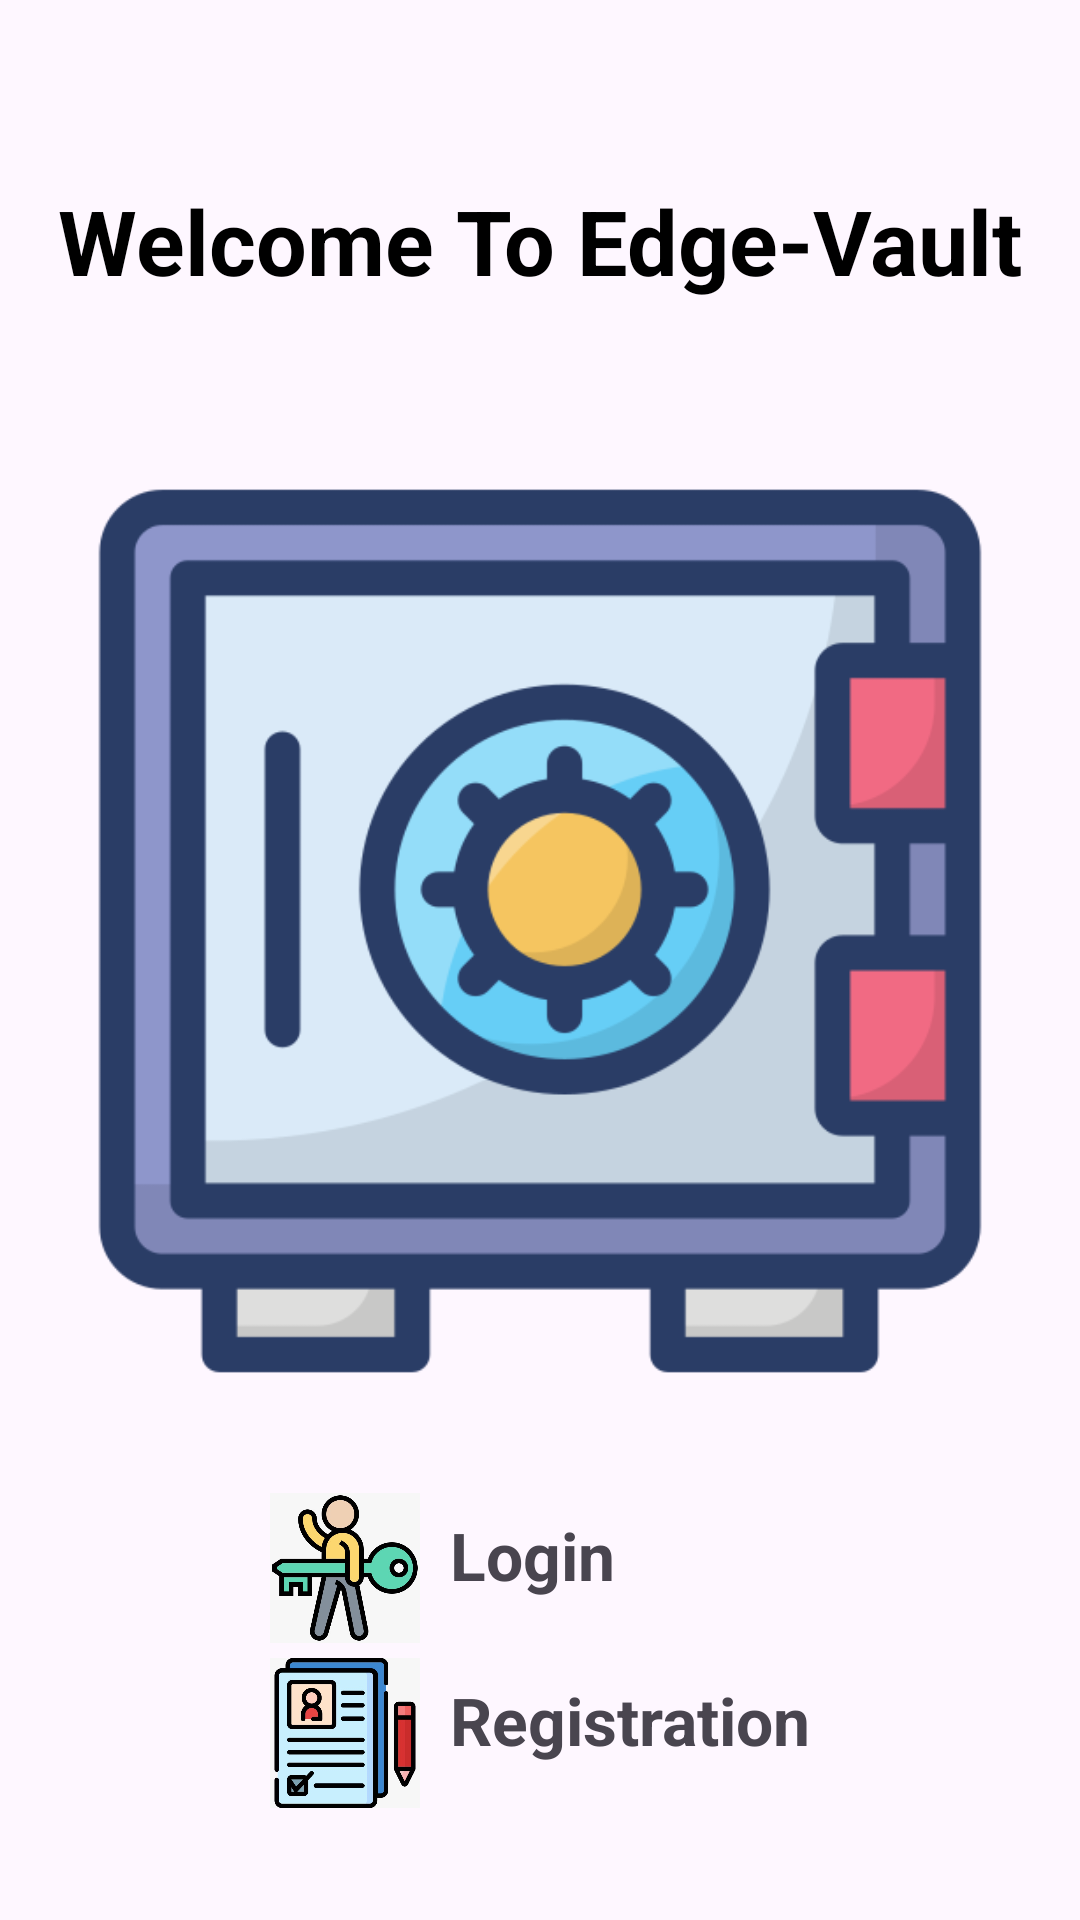

Icon click points for this 1080x1920 phone screenshot, format [x,y]:
key: [345,1568]
